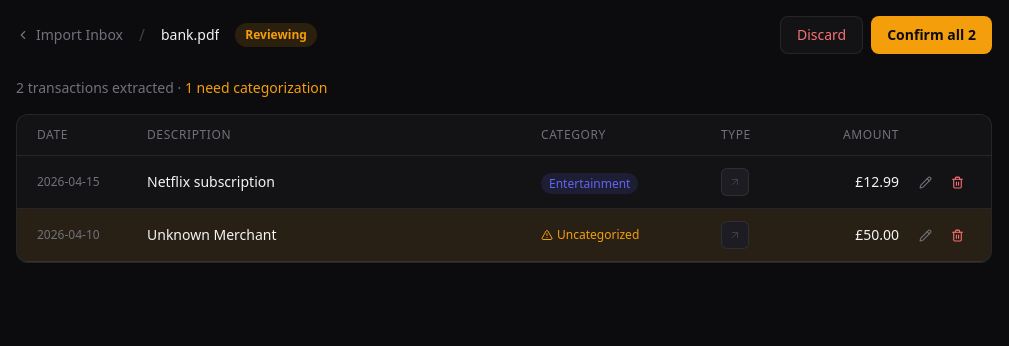
Scenario: BatchReviewClient › save-rule prompt › shows save-rule prompt when uncategorized item gets a category
Click the button named "Edit transaction" next to "50.00" at [925, 235], box [911,221,939,249]
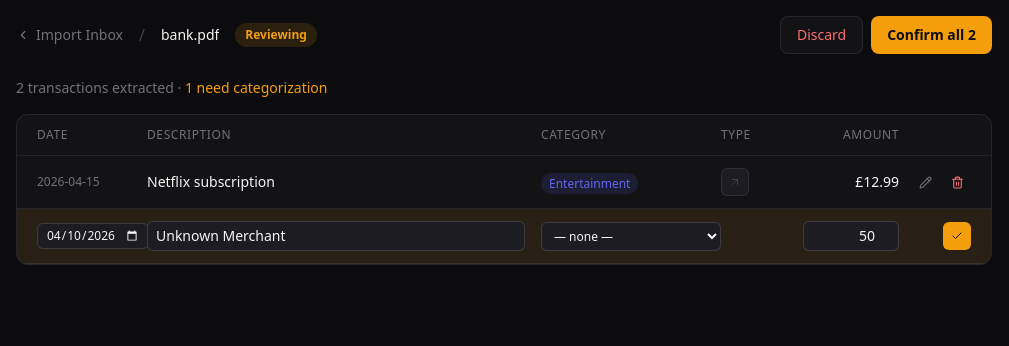
Now the field showing "Unknown Merchant" is shown, box [147,221,525,251]
Select "Food" in the dropdown at [631, 236], box [541,222,721,250]
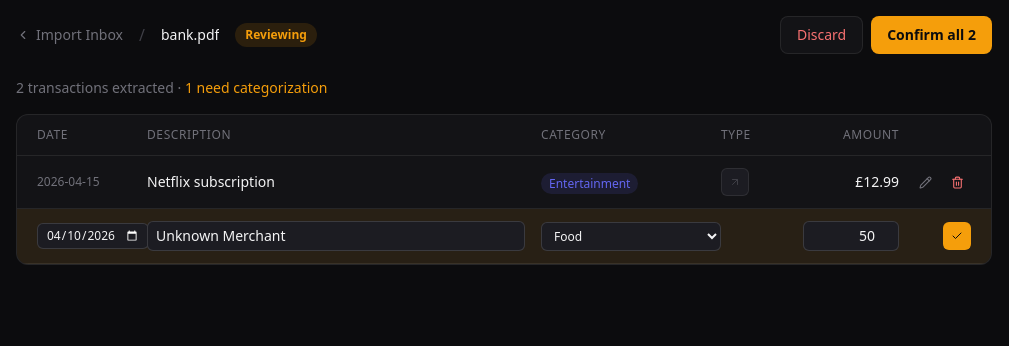
Click the button named "Save" at [957, 236], box [943,222,971,250]
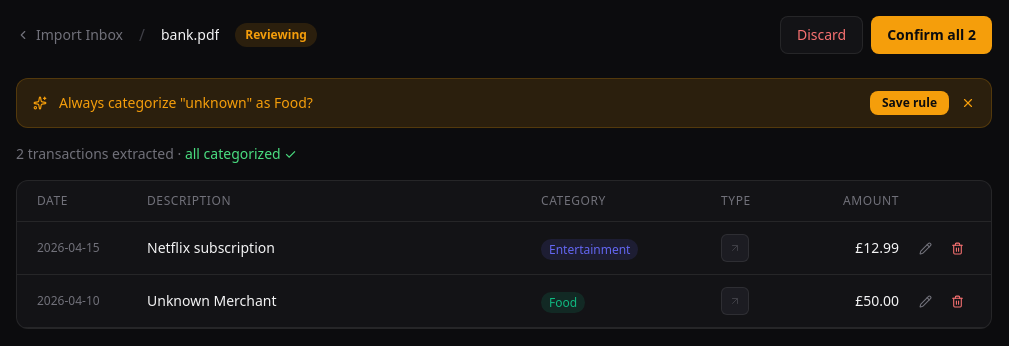
Now the text "Always categorize \"unknown\" as Food?" is shown, box [59,93,313,112]
Now the text "Always categorize \"unknown\" as Food? Save rule" is shown, box [16,78,992,128]
